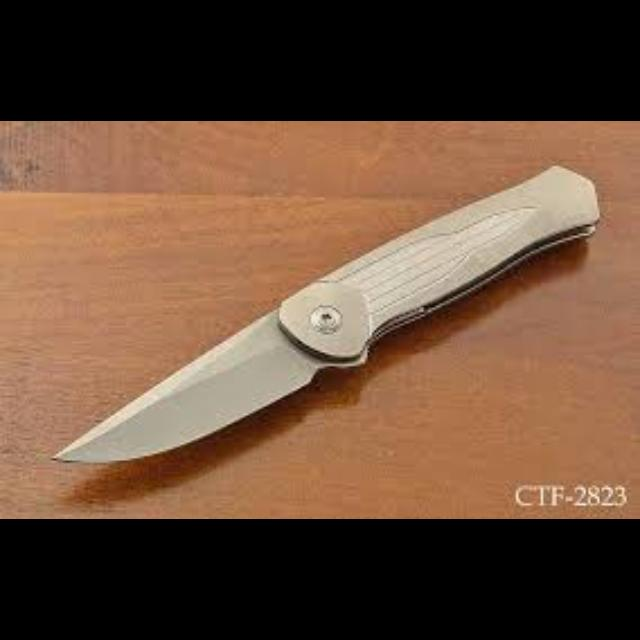knife: (51, 162, 600, 466)
